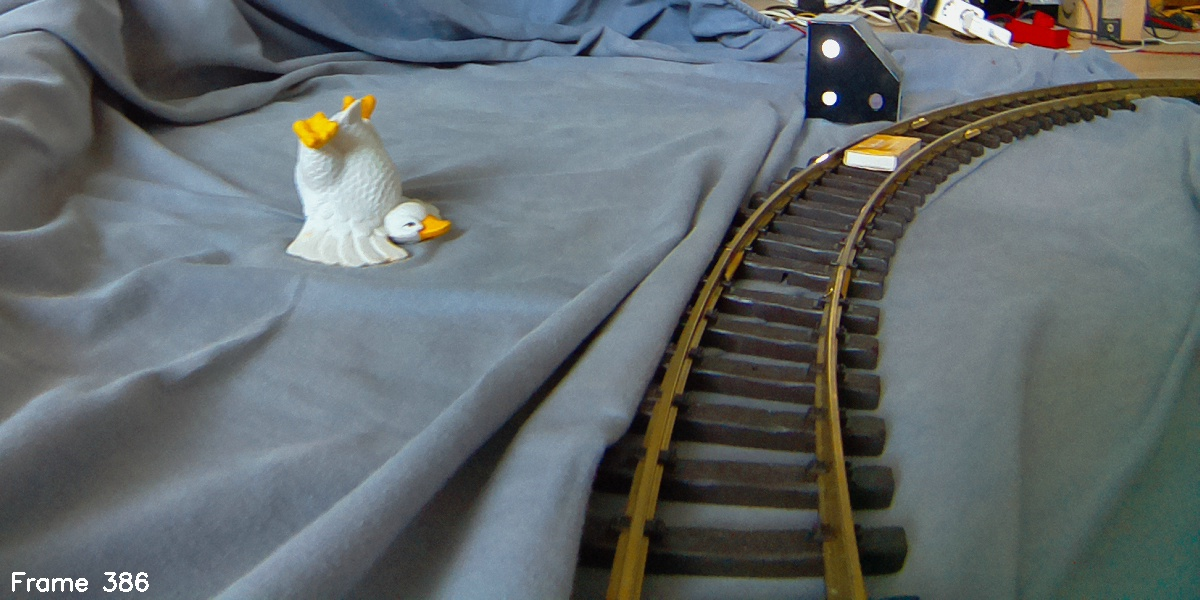Ente: (281, 93, 454, 283)
Fahrt: (806, 11, 900, 123)
